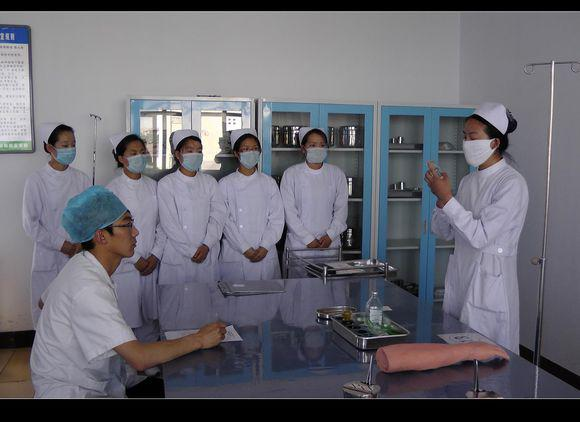NONE: (102, 220, 142, 259)
OK: (463, 129, 498, 166), (51, 135, 83, 167), (178, 146, 203, 173), (237, 144, 261, 169), (126, 146, 148, 172), (303, 142, 327, 164)
